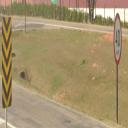speed_limit_40: (113, 11, 122, 67)
